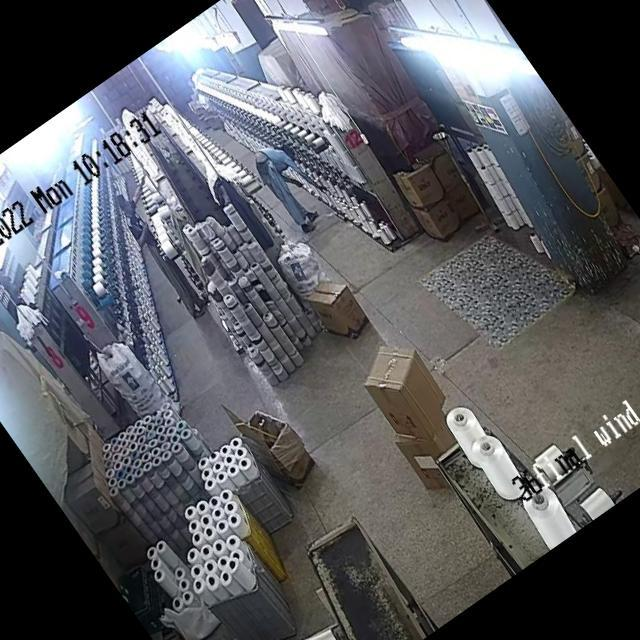person: (111, 194, 206, 316), (247, 127, 345, 244)
